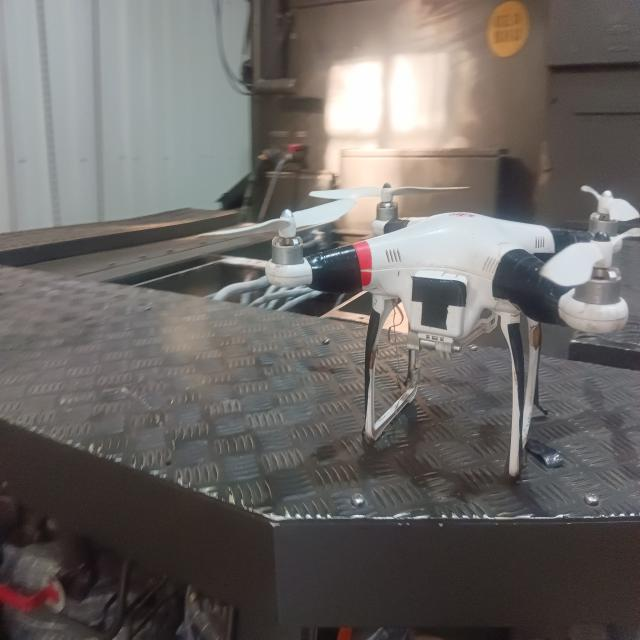drone: (198, 163, 640, 480)
